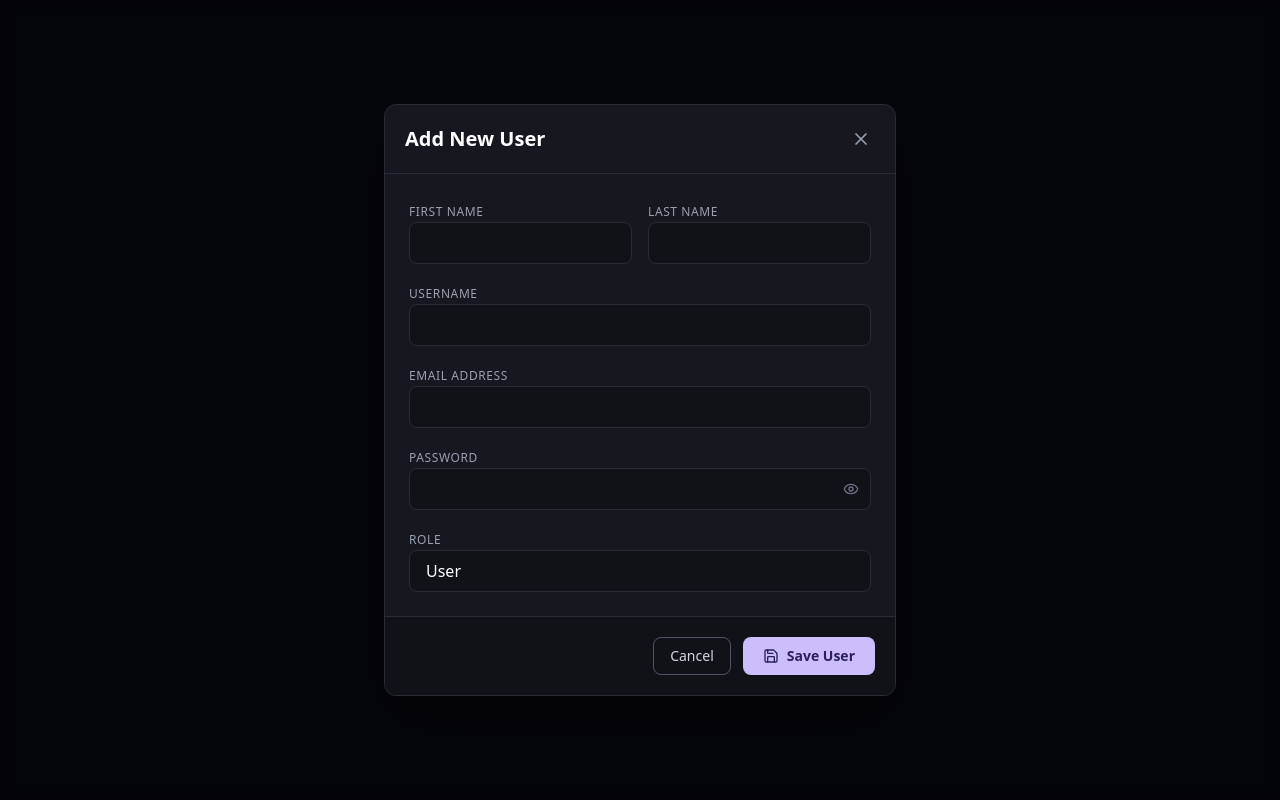
UserFormModal › shows an error message when submission fails
Type "John" into the field below "First Name". click: x=520, y=243
box: [409,222,632,264]
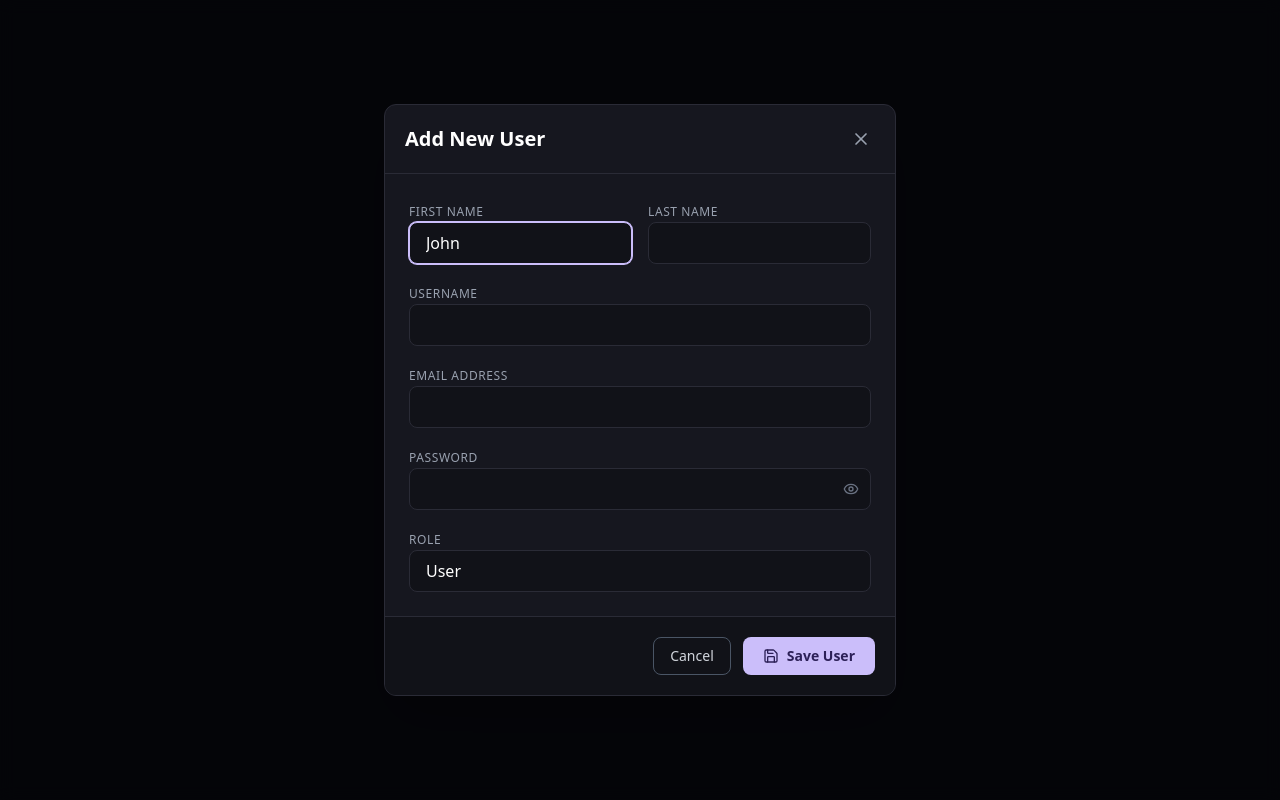
Type "Smith" into the field below "Last Name". click: x=760, y=243
box: [648,222,871,264]
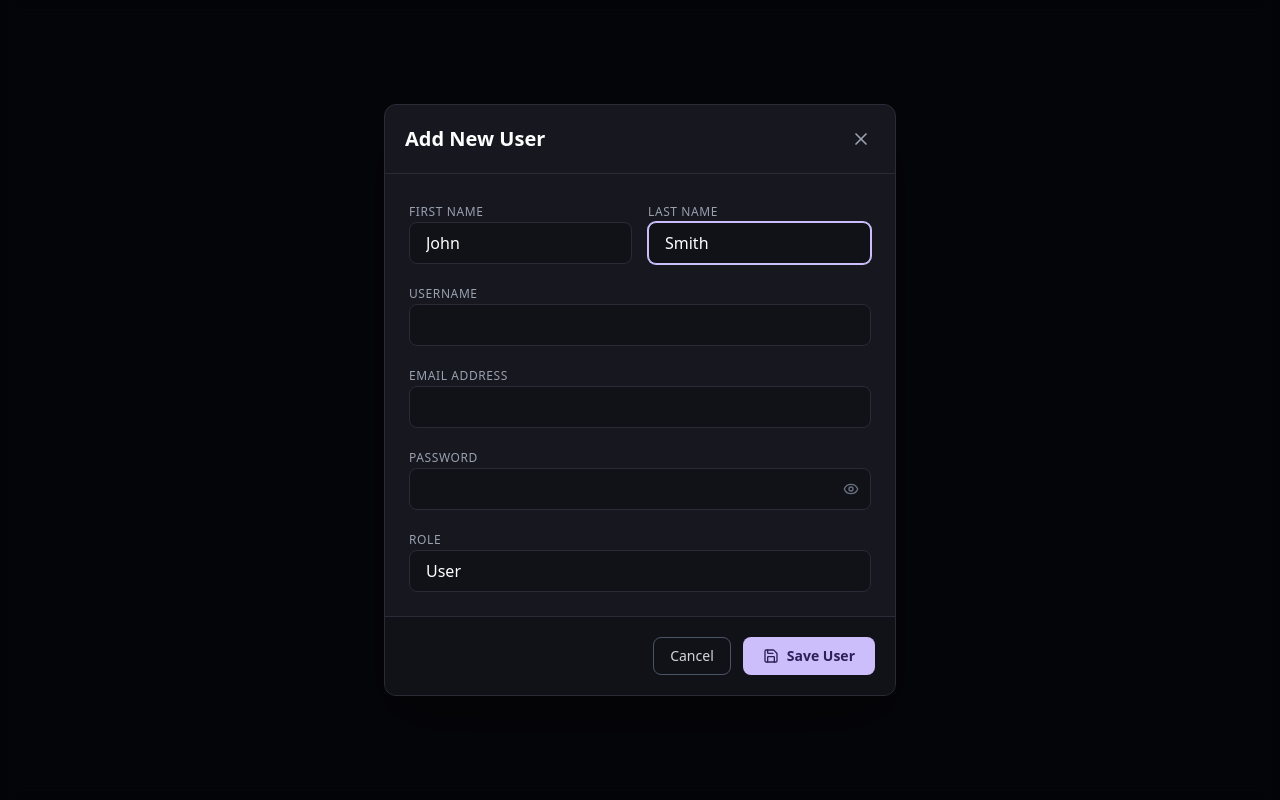
Type "johnsmith" into the field below "Username". click: x=640, y=325
box: [409,304,871,346]
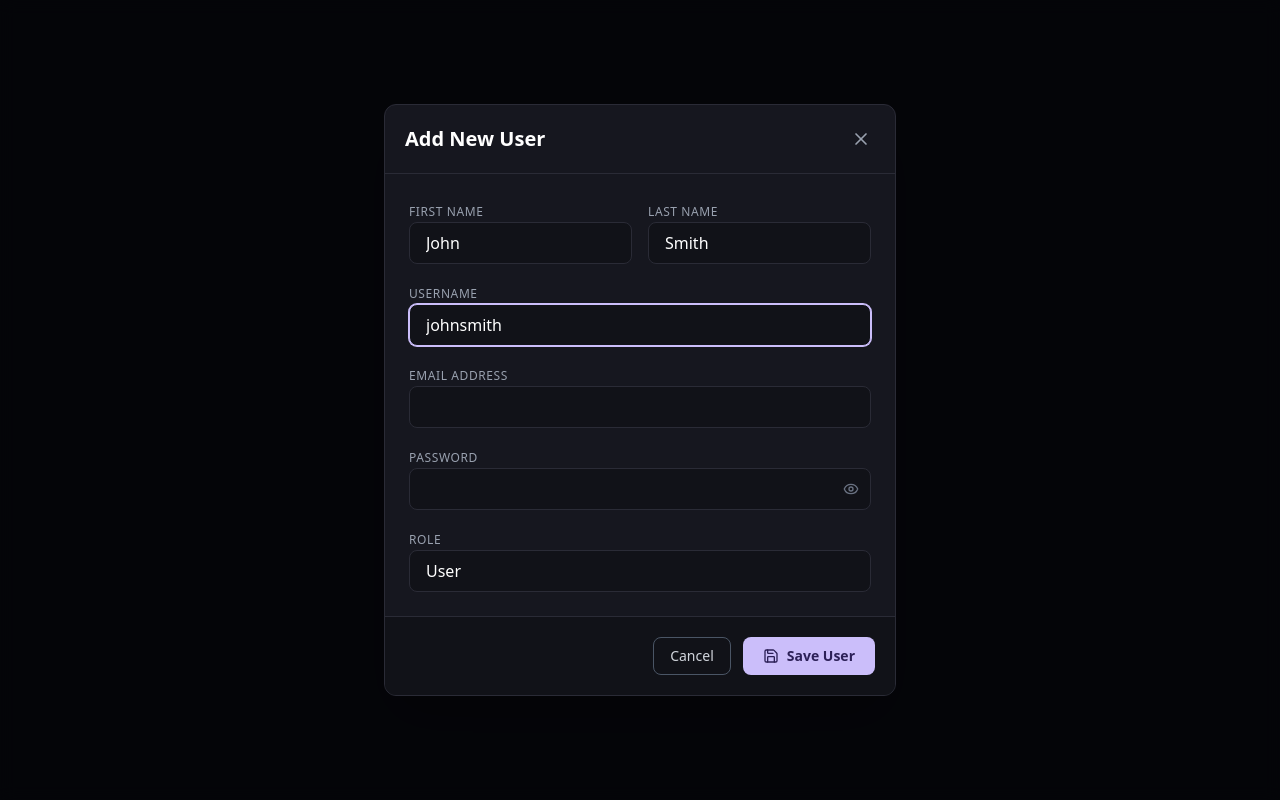
Type "john@example.com" into the field below "Email Address". click: x=640, y=407
box: [409,386,871,428]
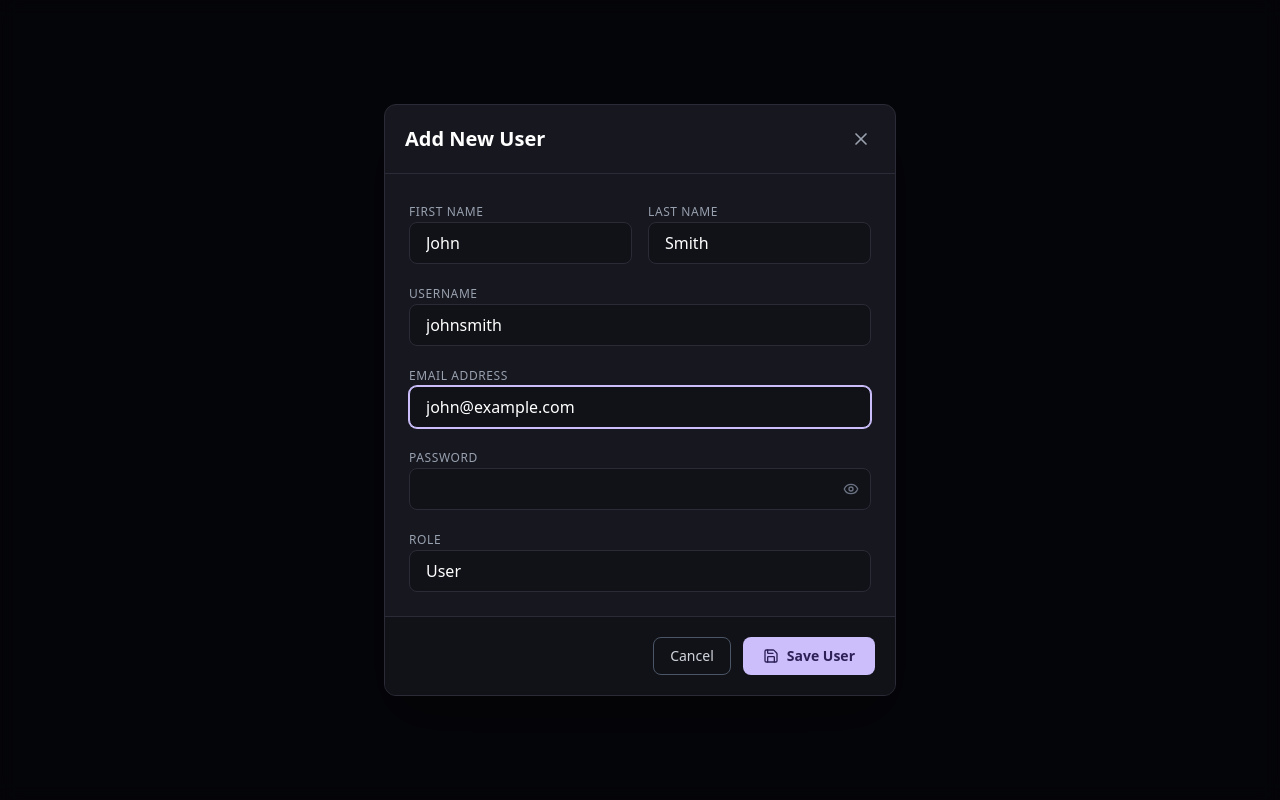
Type "Sup3r$ecret" into the password field. click: x=640, y=489
box: [409,468,871,510]
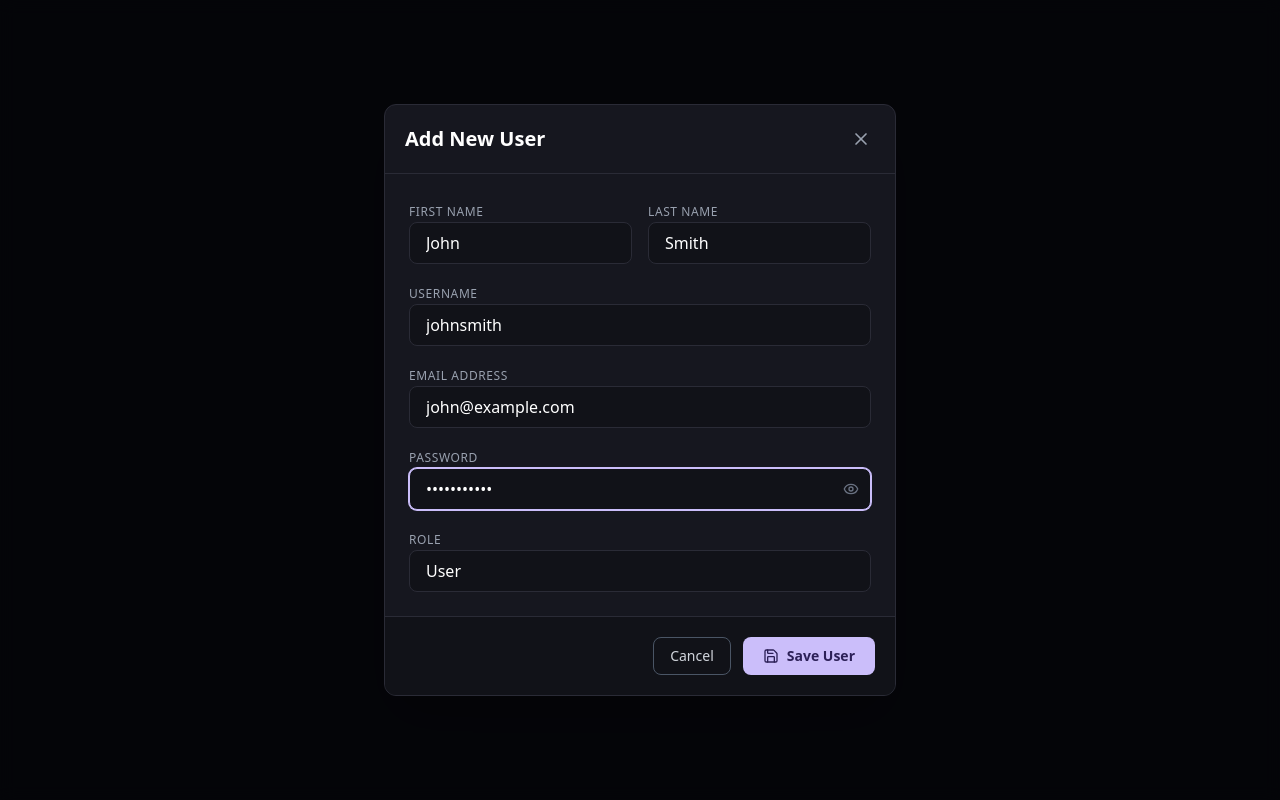
Click the button "Save User". click: x=809, y=656
box: [743,637,875,675]
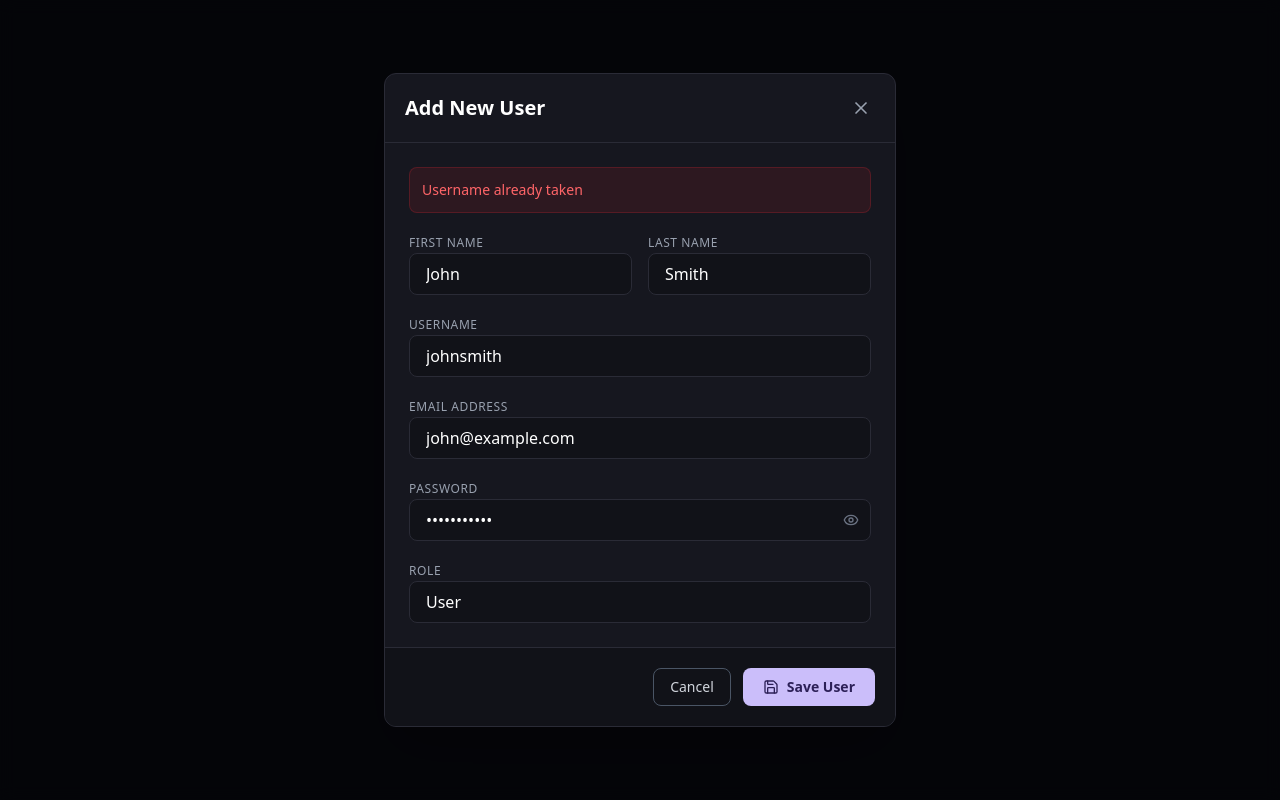
Check: the text "Username already taken" is shown, box [409,167,871,213]
